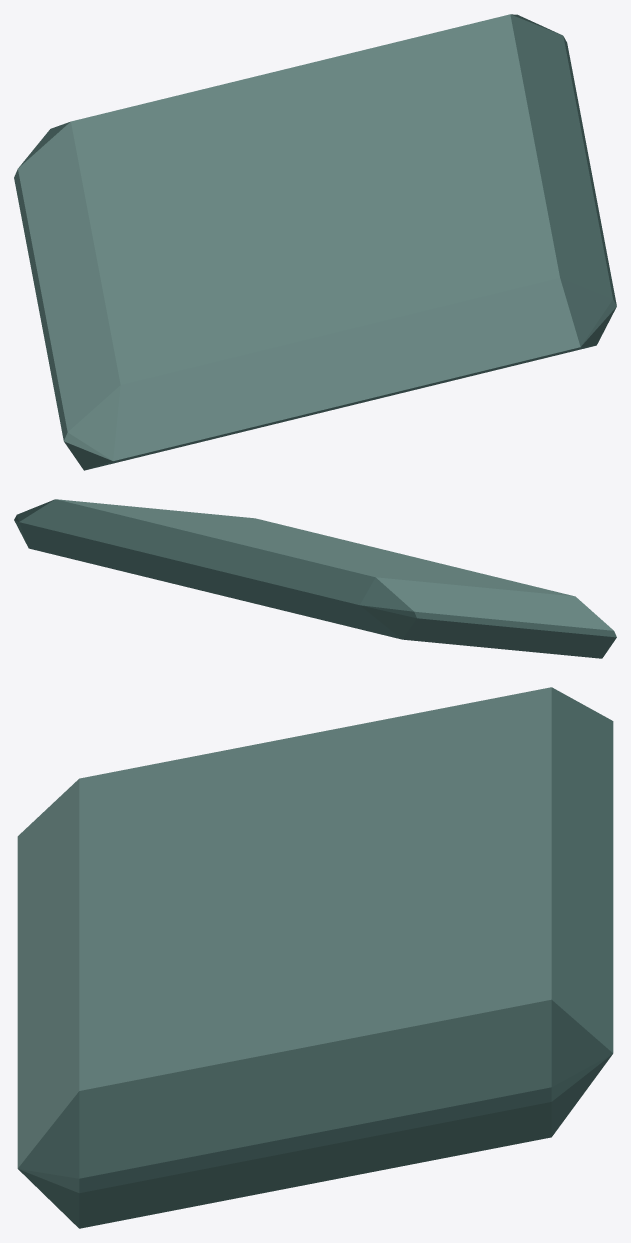
File: Plate_Base.gltf
The picture shows the model from 3 angles, top to bottom: view 1: azimuth 30°, elevation 25°; view 2: azimuth 150°, elevation 25°; view 3: azimuth 270°, elevation 25°; orthographic projection. The views are drawn at different scales.
Parts seen in each view (by area): view 1: Plate_Base_baked; view 2: Plate_Base_baked; view 3: Plate_Base_baked.
Boxes of the visible parts, bbox=[...] form: Plate_Base_baked: bbox=[14, 14, 616, 470]; Plate_Base_baked: bbox=[14, 499, 616, 658]; Plate_Base_baked: bbox=[17, 687, 613, 1228].
Size of the model in its own units: 1.09 by 0.304 by 0.58.
